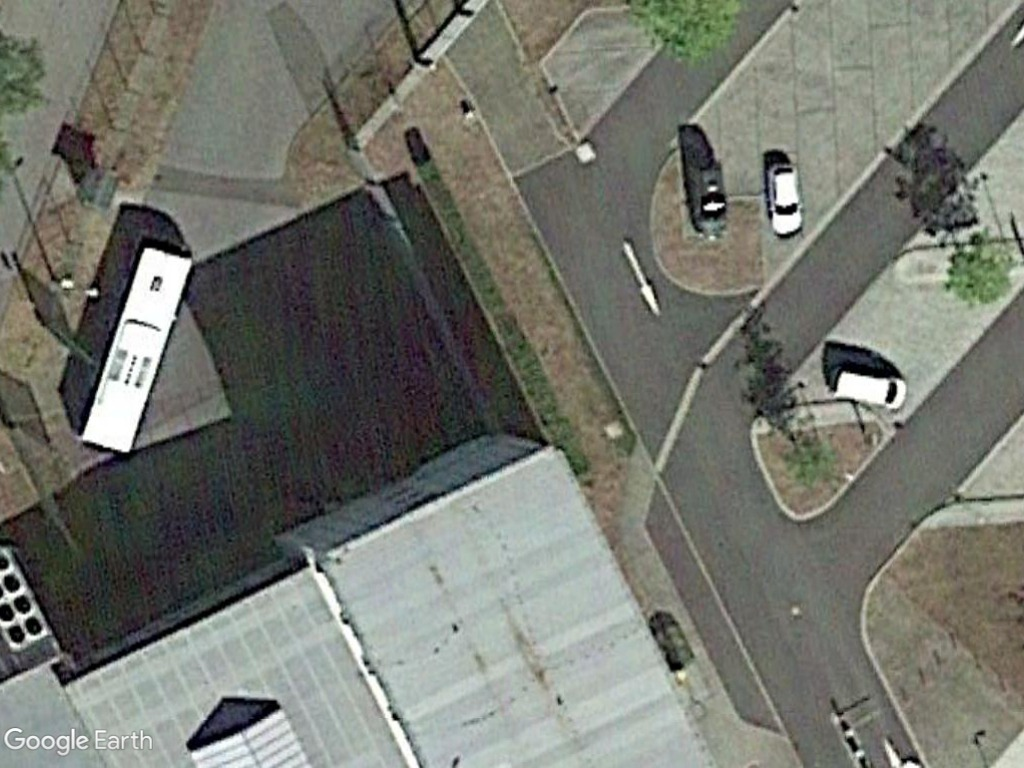bus: (72, 238, 199, 462)
car: (747, 147, 811, 241), (822, 354, 917, 416)
